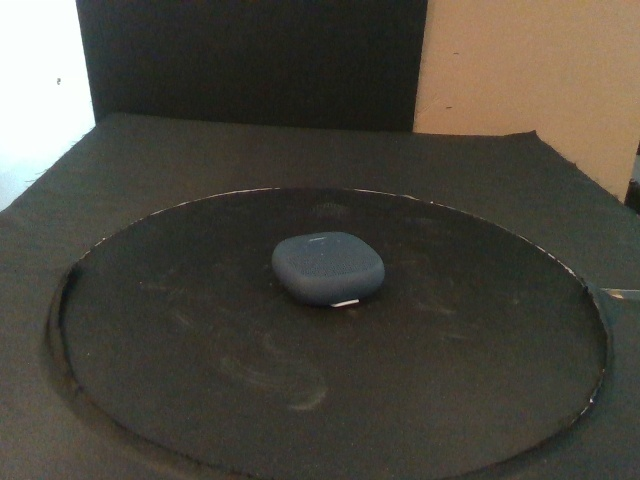speaker: (271, 230, 385, 309)
